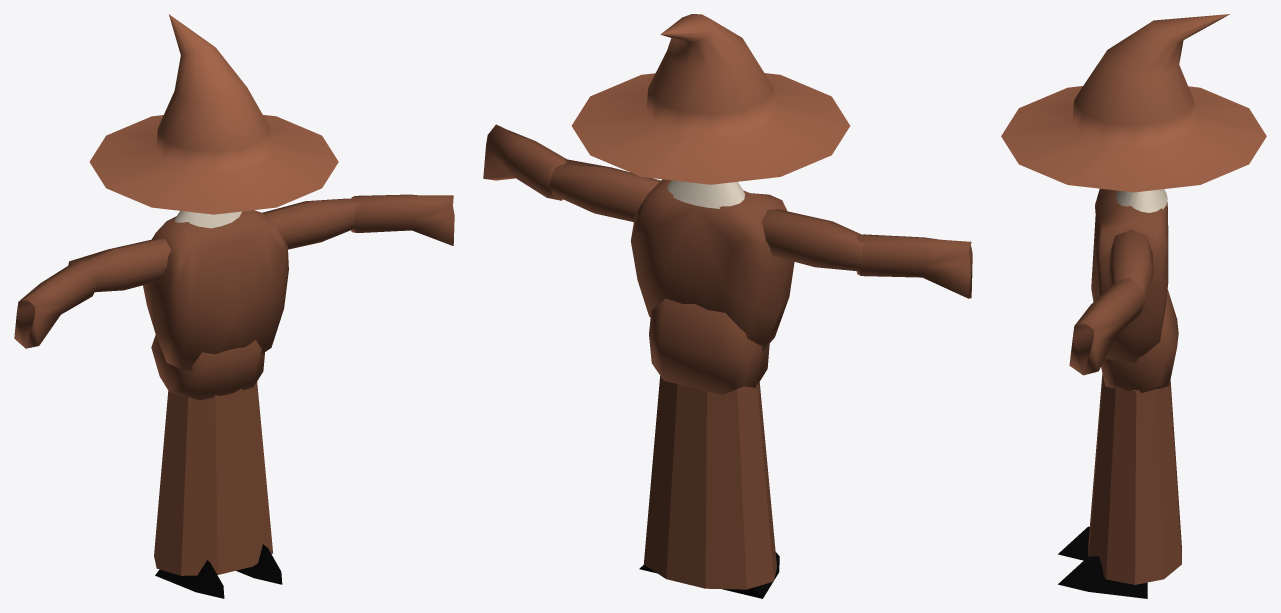
The model's file is Gavin.fbx.
The picture shows the model from 3 angles, left to right: view 1: azimuth 30°, elevation 25°; view 2: azimuth 150°, elevation 25°; view 3: azimuth 270°, elevation 25°; orthographic projection. The views are drawn at different scales.
Parts seen in each view (by area): view 1: Chest; view 2: Chest; view 3: Chest.
Part boxes in pixels (x1,y1,x2,y2): Chest: (14, 14, 454, 598); Chest: (483, 14, 972, 598); Chest: (1001, 14, 1266, 598).
Bounding box in the file's own units: 6.3 × 7.2 × 3.13.
